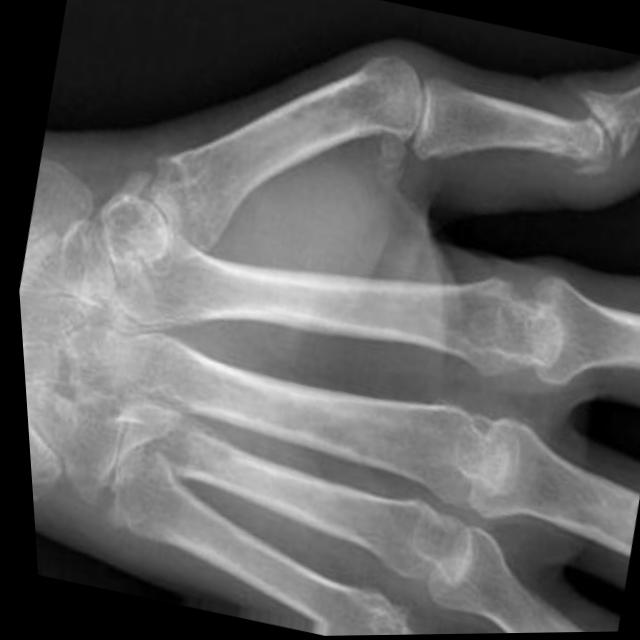fracture: (548, 77, 638, 188)
